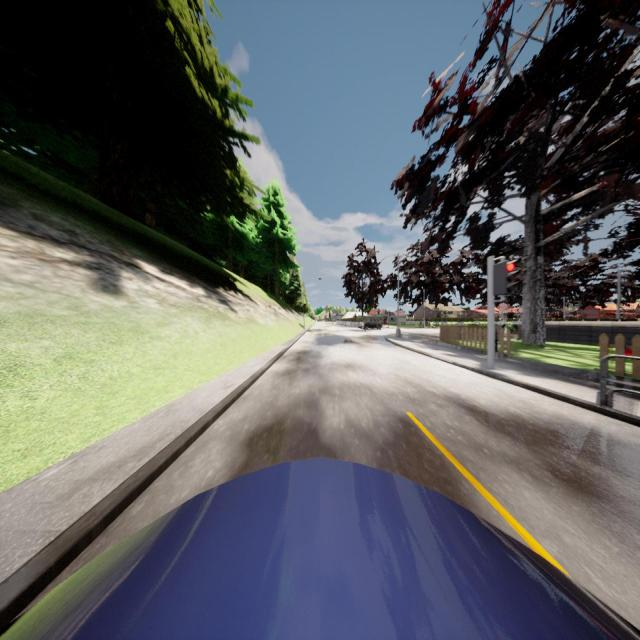Vehicle: (0, 456, 640, 640), (358, 318, 382, 331)
traffic_light: (492, 262, 519, 296)
